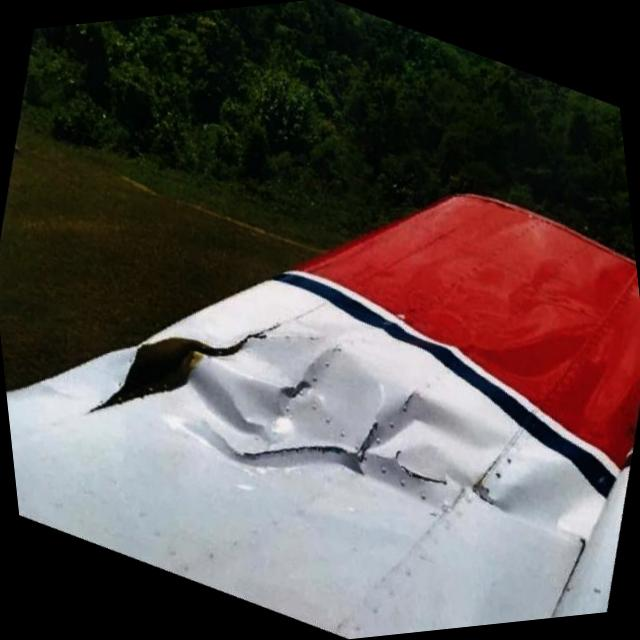crack: (243, 414, 384, 492), (381, 443, 443, 498), (397, 389, 412, 404)
